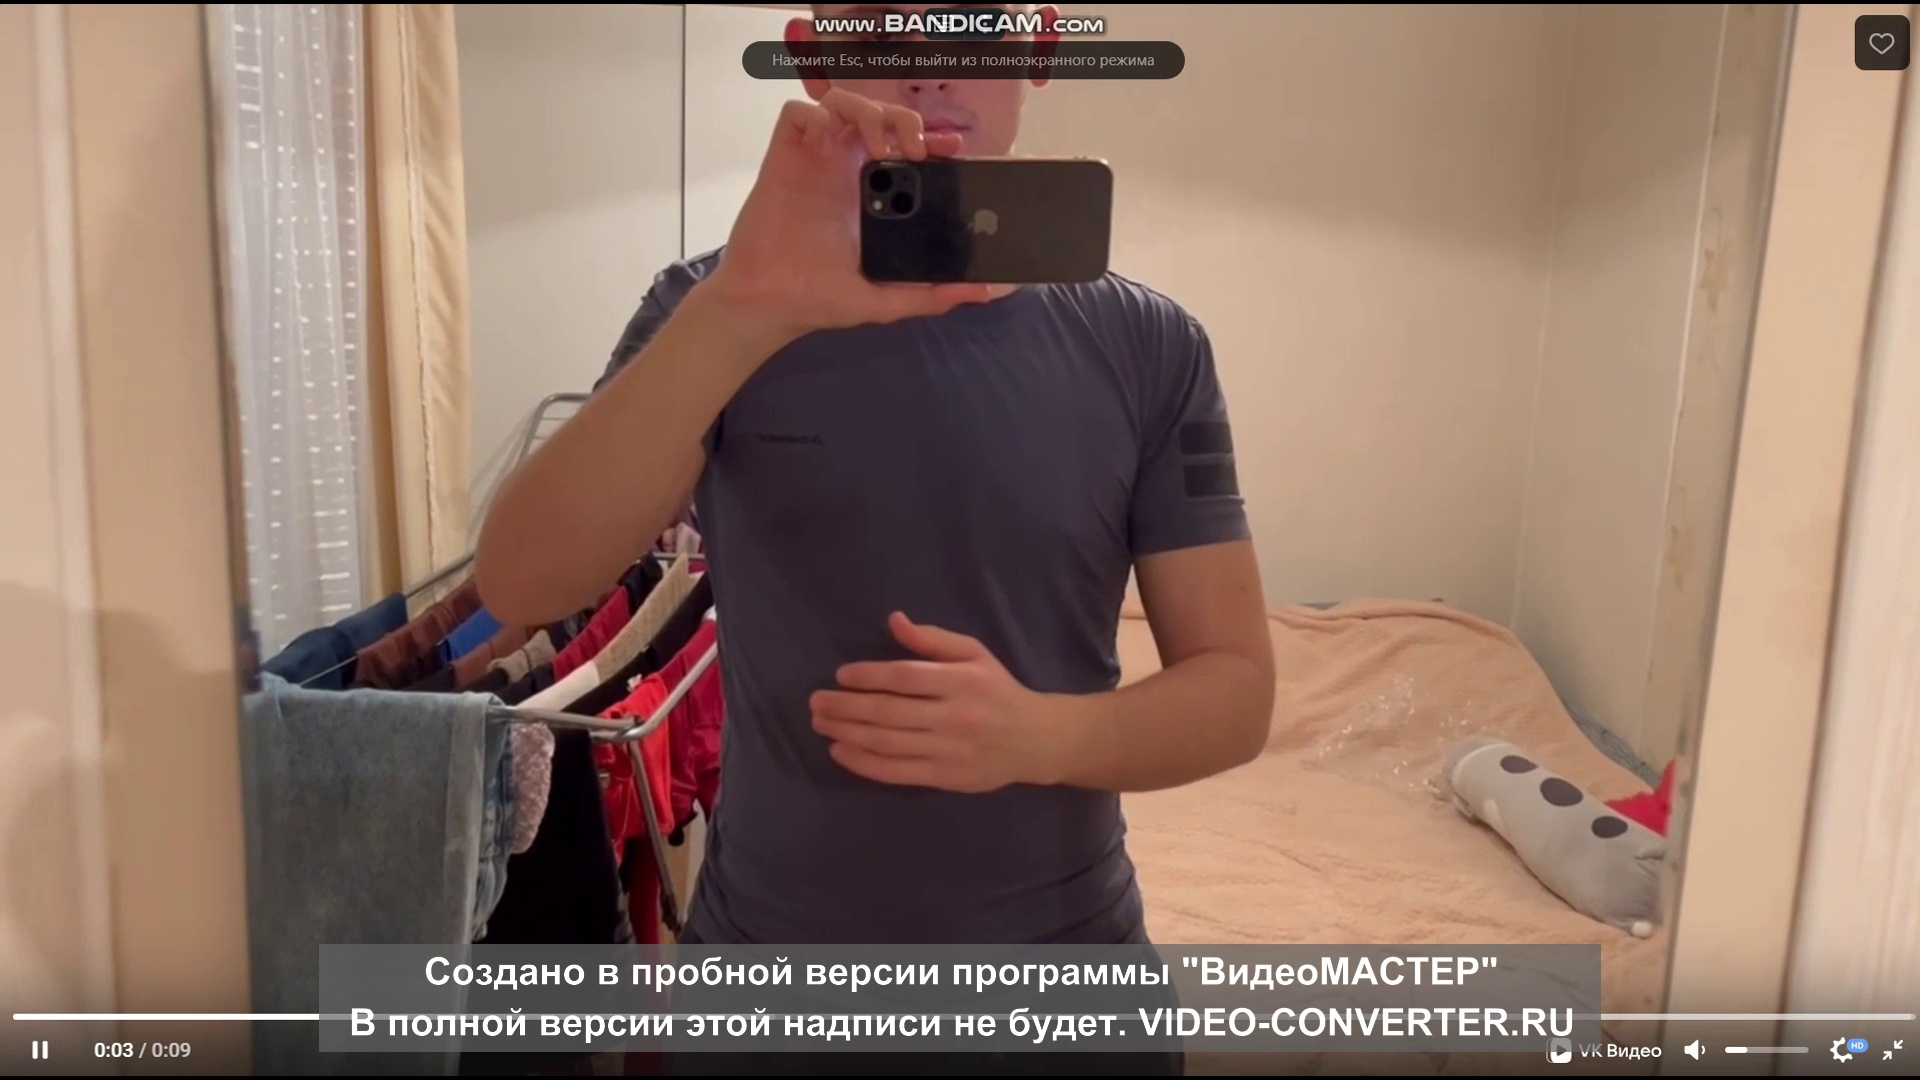Кисть: (804, 607, 1021, 795)
